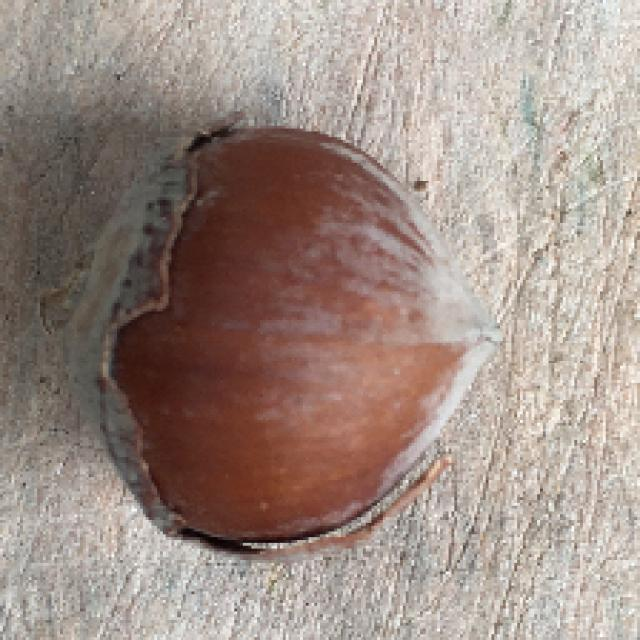damagedHazelnut: (42, 115, 498, 568)
